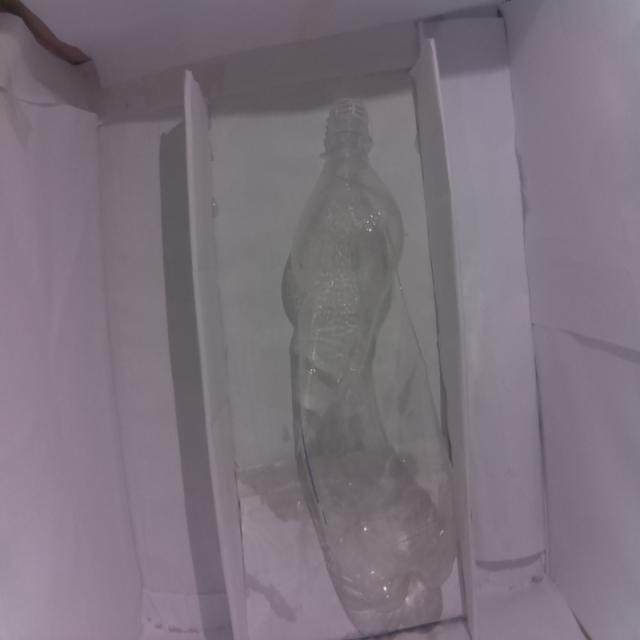Anorganik: (277, 89, 461, 640)
